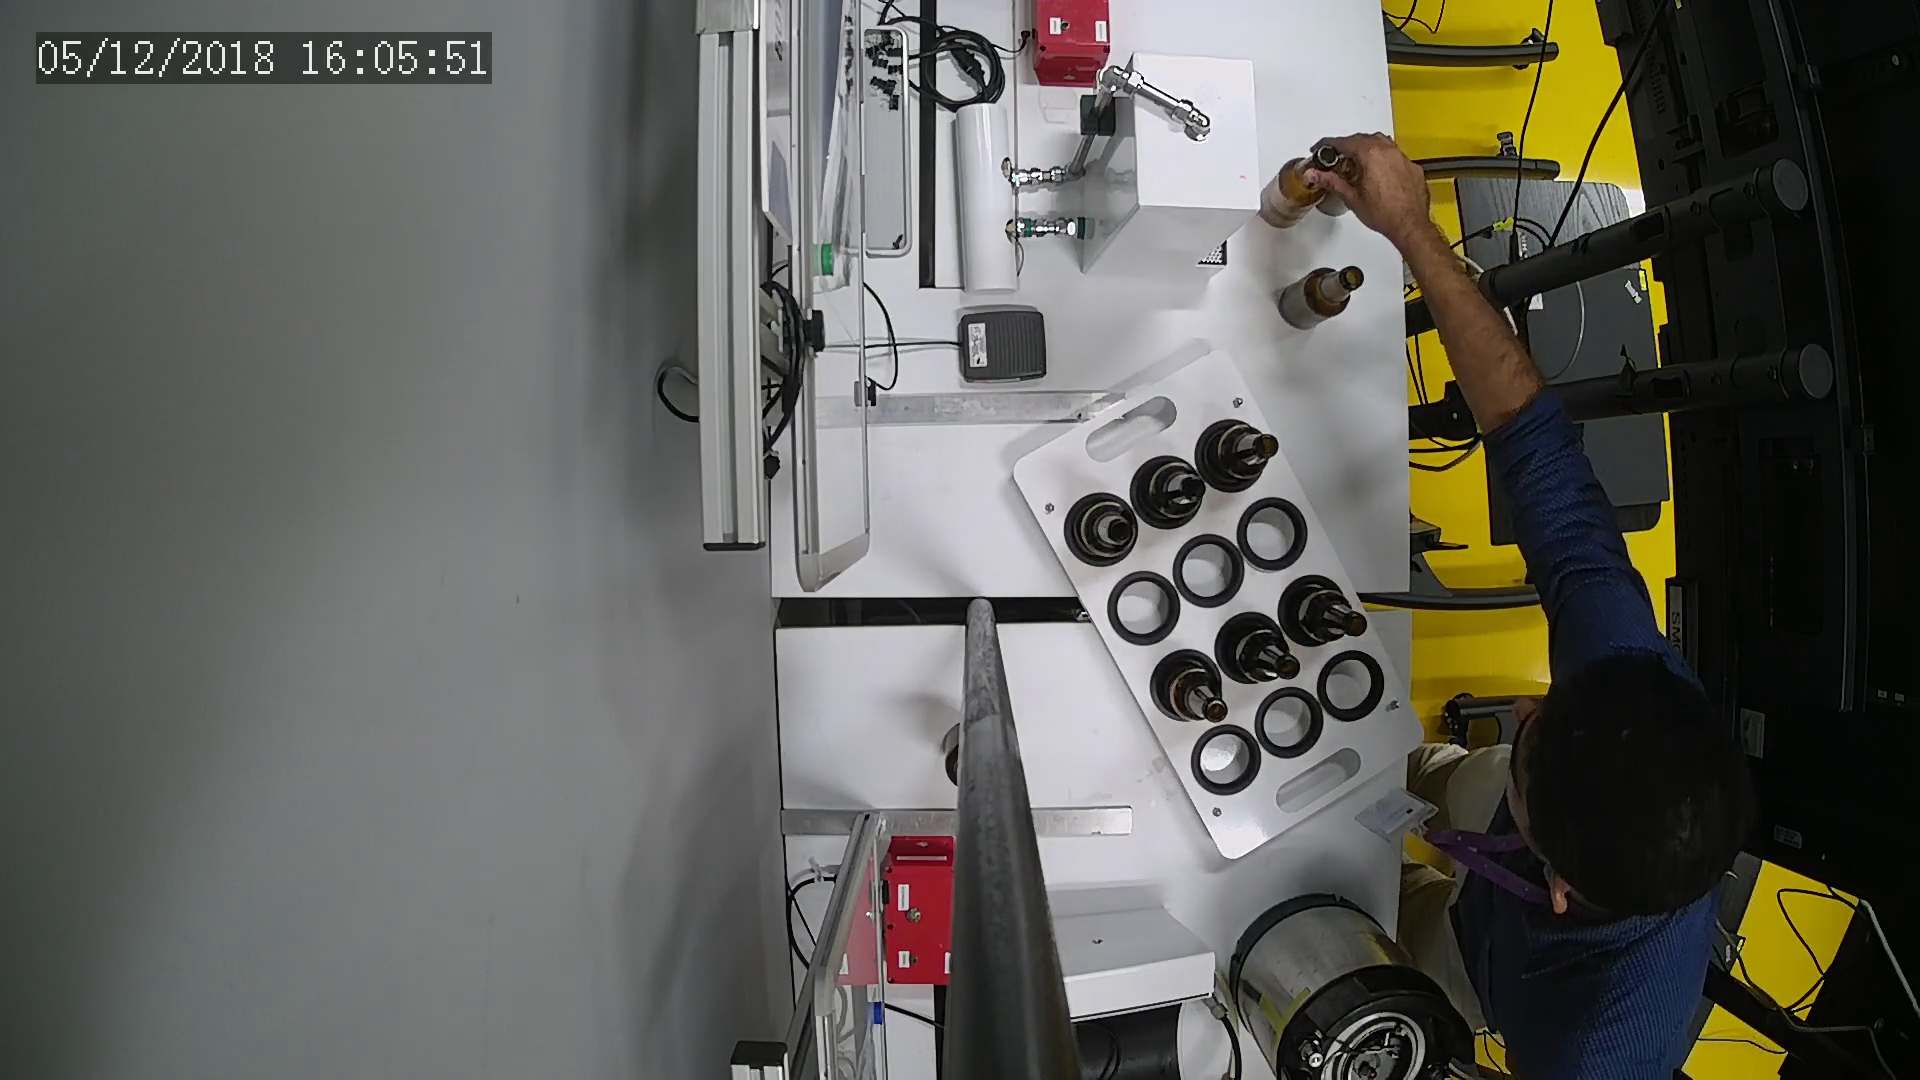filled_bottle: (1151, 649, 1236, 735), (1279, 574, 1371, 651), (1216, 613, 1304, 686), (1064, 491, 1139, 568), (1131, 458, 1212, 530), (1201, 419, 1280, 491)
trolley: (1004, 353, 1433, 862)
unfilled_bottle: (1273, 265, 1367, 334)
